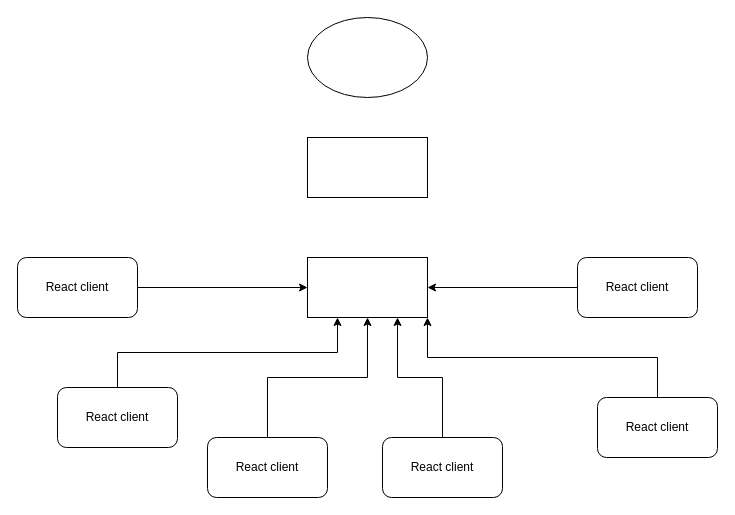
Some shapes in this 735 by 515 pixel diagram are drawn without their labels. The shapes that lost their labels are listed below. From the top down, each one's centre as x and y in pixels, then its label:
point (367, 57): Redis
point (367, 167): GRPC server
point (367, 287): Envoy proxy
